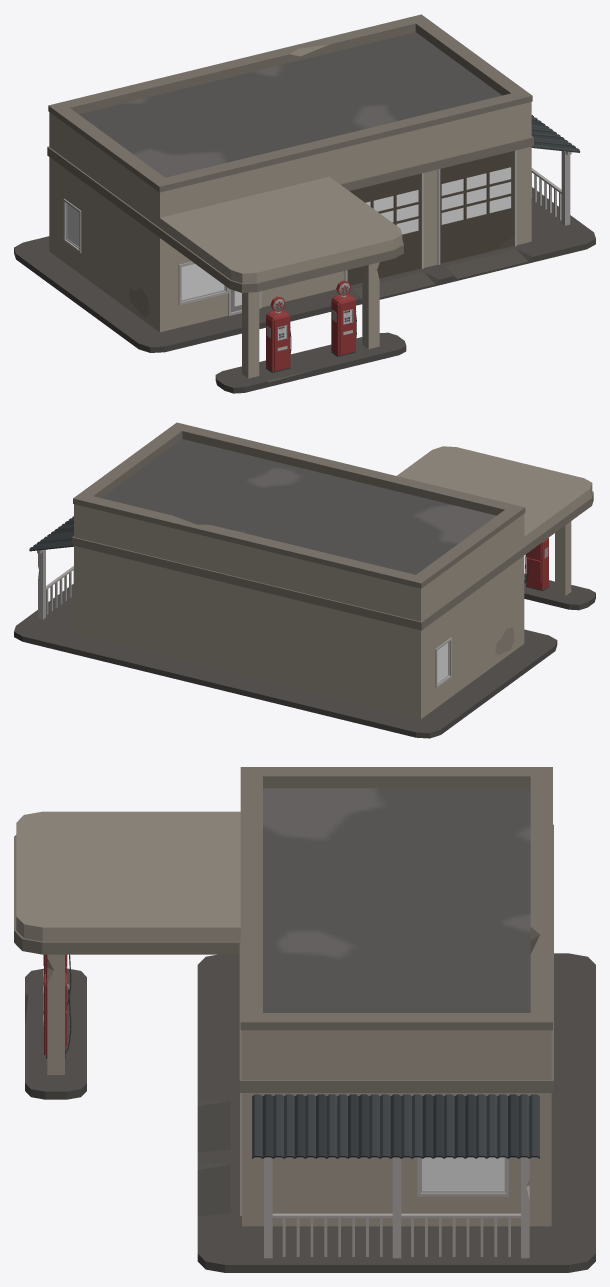
File: SM_Bldg_Desert_GasStation.fbx
The picture shows the model from 3 angles, top to bottom: view 1: azimuth 30°, elevation 25°; view 2: azimuth 150°, elevation 25°; view 3: azimuth 270°, elevation 25°; orthographic projection. The views are drawn at different scales.
Visible parts, largest first — view 1: SM_Bldg_Desert_GasStation, SM_Bldg_Desert_GasStation_Glass; view 2: SM_Bldg_Desert_GasStation; view 3: SM_Bldg_Desert_GasStation, SM_Bldg_Desert_GasStation_Glass.
Boxes of the visible parts, box(x1,y1,x2,y2) form: SM_Bldg_Desert_GasStation: box(14, 14, 595, 393); SM_Bldg_Desert_GasStation_Glass: box(67, 204, 224, 299); SM_Bldg_Desert_GasStation: box(14, 422, 595, 738); SM_Bldg_Desert_GasStation: box(14, 767, 595, 1272); SM_Bldg_Desert_GasStation_Glass: box(422, 1157, 504, 1190).
Size of the model in its own units: 1666 by 530 by 1315.
